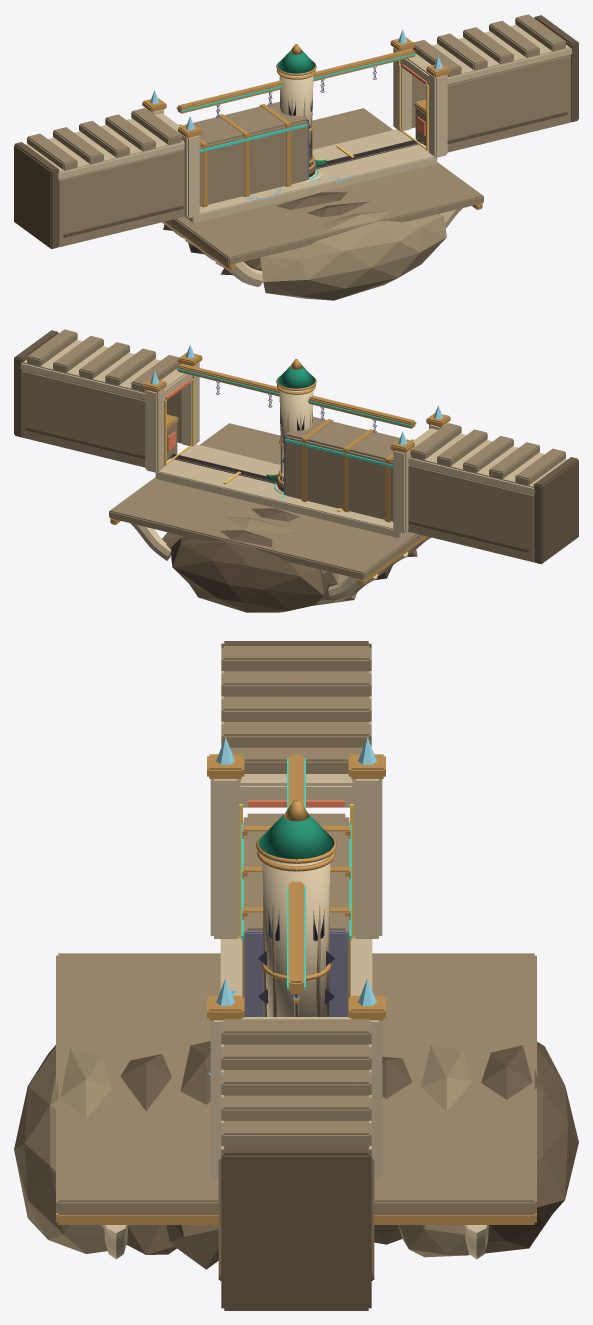
File: props6-eff669de.glb
3 renders of one model, top to bottom at view 1: azimuth 30°, elevation 25°; view 2: azimuth 150°, elevation 25°; view 3: azimuth 270°, elevation 25°, orthographic. The views are drawn at different scales.
Parts seen in each view (by area): view 1: crusher_frame, causeway_keel, crusher_block, crumble_tile, knowledge_tower, saw_track; view 2: crusher_frame, causeway_keel, crusher_block, crumble_tile, knowledge_tower, saw_track; view 3: causeway_keel, crusher_frame, knowledge_tower, crusher_block, crumble_tile.
Part boxes in pixels (x1,y1,x2,y2): crusher_frame: (14,14,578,249); causeway_keel: (161,108,483,300); crusher_block: (178,101,310,207); crumble_tile: (185,129,437,223); knowledge_tower: (276,44,316,177); saw_track: (316,99,426,169); crusher_frame: (14,329,578,564); causeway_keel: (109,423,431,612); crusher_block: (282,416,413,522); crumble_tile: (155,444,407,538); knowledge_tower: (276,359,316,492); saw_track: (166,414,276,484); causeway_keel: (14,953,578,1269); crusher_frame: (207,641,385,1310); knowledge_tower: (256,800,336,1016); crusher_block: (241,813,351,1016); crumble_tile: (208,936,372,1075).
Size of the model in its own units: 20.25 by 7.71 by 9.4.
Materials: 1 (1 with a texture image).
